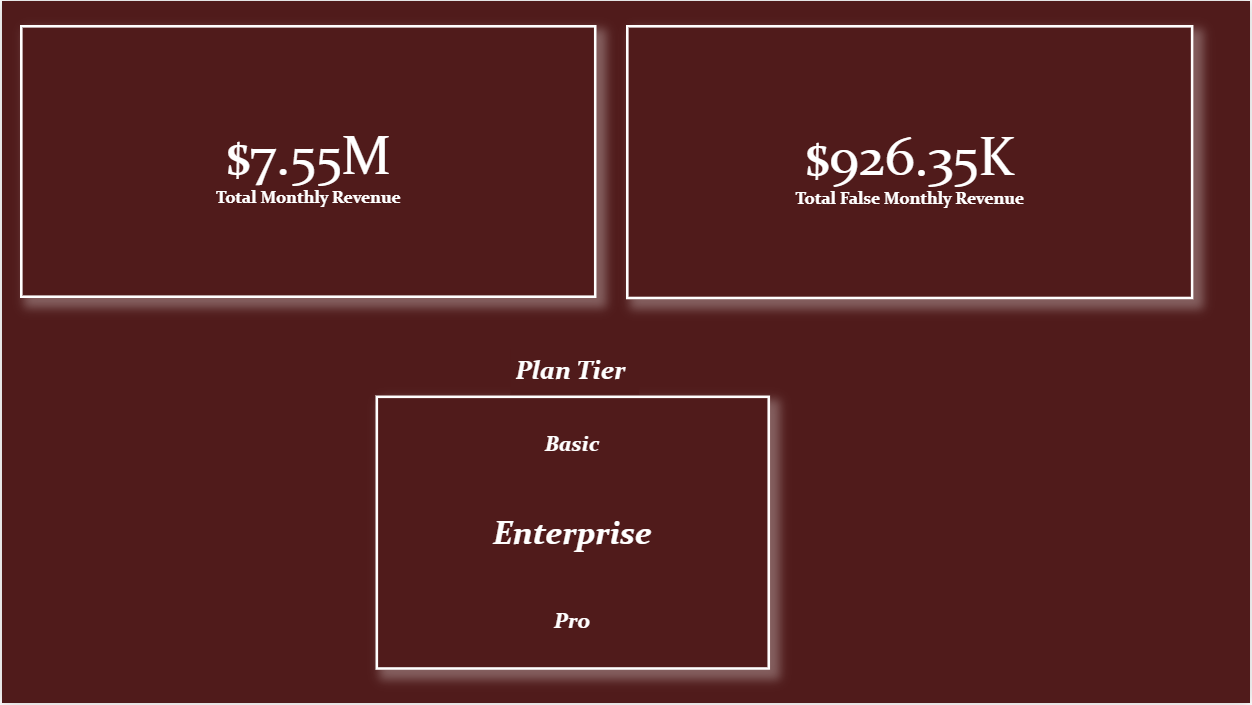

This screenshot's page, from the dashboard's own definition file:
{"tool":"powerbi","page":{"name":"Page 1","canvas":[1280,720],"ordinal":0},"visuals":[{"type":"card","fields":{"Values":["public true_revenue_report.Total Monthly Revenue"]},"box":[18.9,24.6,591.5,279.7],"z":0},{"type":"card","fields":{"Values":["public revenue_inflation_audit.Total False Monthly Revenue"]},"box":[640.6,24.6,582.1,281.6],"z":1},{"type":"advancedSlicerVisual","title":"PLAN TIER","fields":{"Values":["ravenstack_subscriptions.plan_tier"]},"box":[383.6,404.4,404.4,281.6],"z":2},{"type":"textbox","box":[520.8,357.6,132.1,46.6],"z":3}]}

Visuals, with their boxes in screenshot pixels (x1, y1, x2, y2), scaled from the page's 1280x720 canvas onto the 1252x705 screenshot:
card - public true_revenue_report.Total Monthly Revenue: (x1=18, y1=24, x2=597, y2=298)
card - public revenue_inflation_audit.Total False Monthly Revenue: (x1=627, y1=24, x2=1196, y2=300)
"PLAN TIER" advancedSlicerVisual: (x1=375, y1=396, x2=771, y2=672)
textbox: (x1=509, y1=350, x2=639, y2=396)
